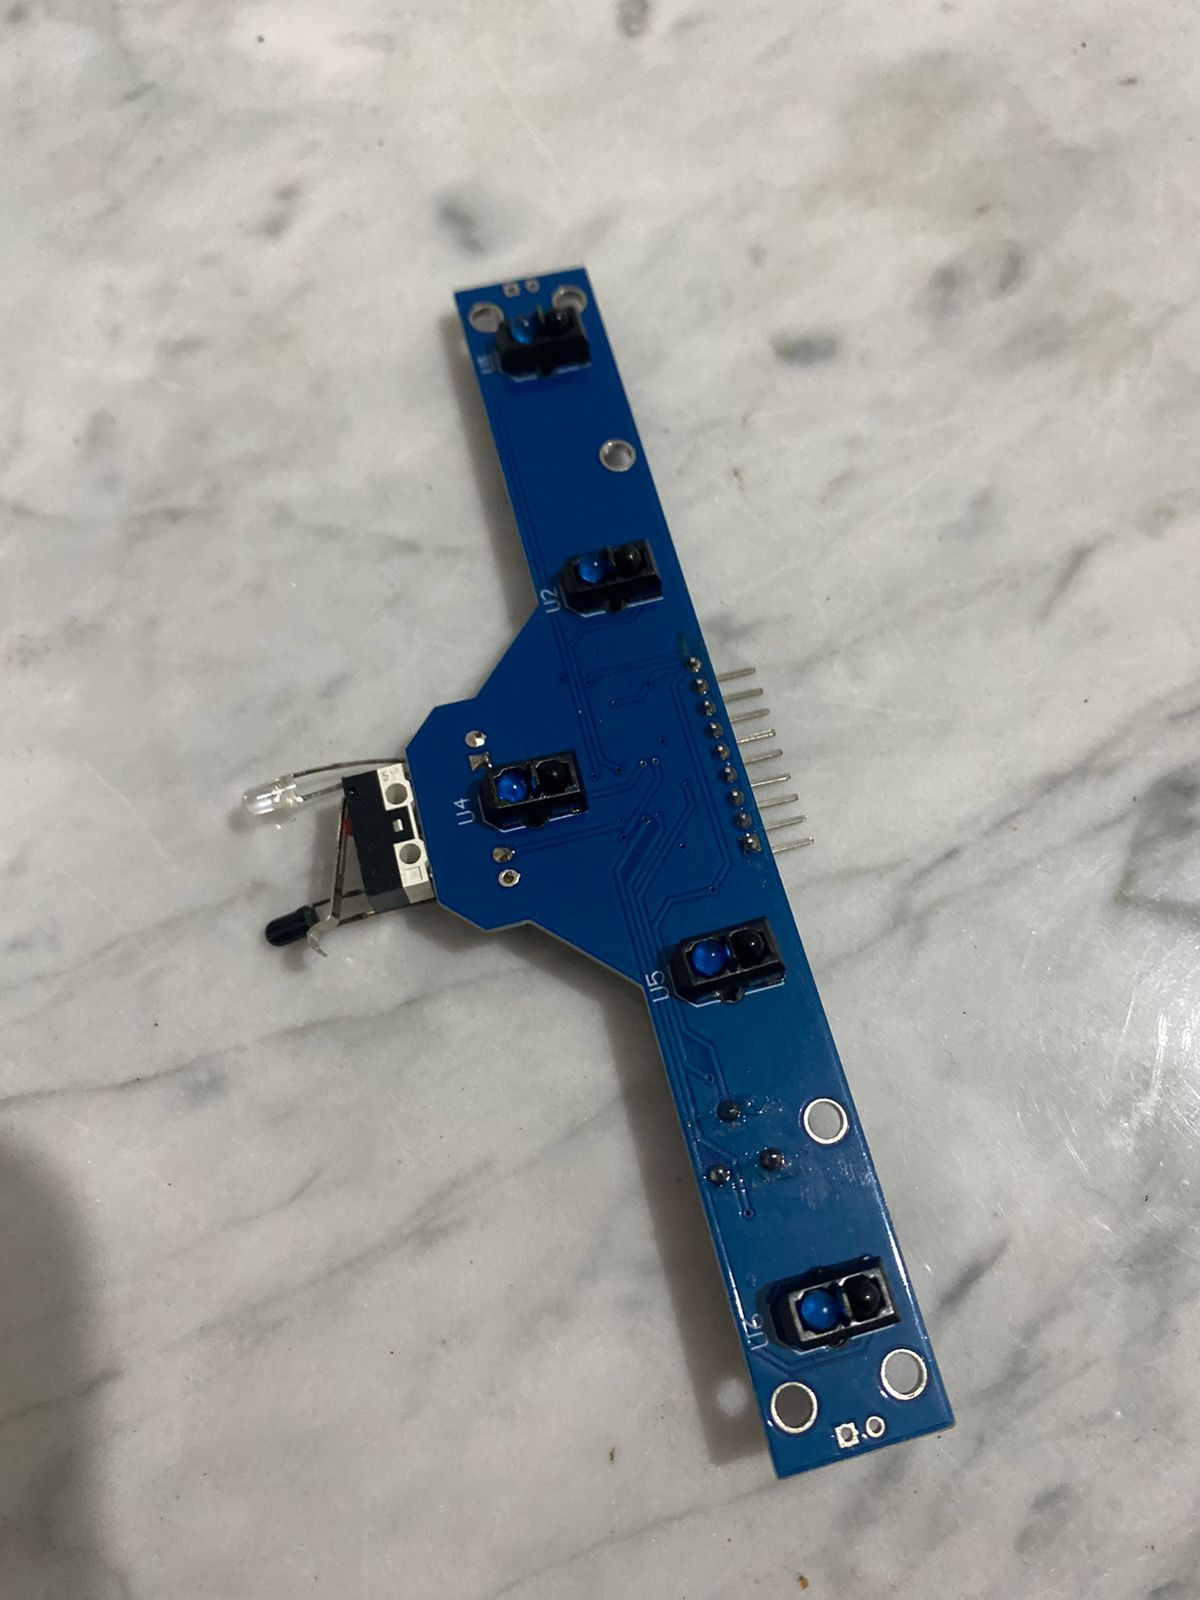Capteur-IR-5 Voies: (239, 243, 971, 1484)
